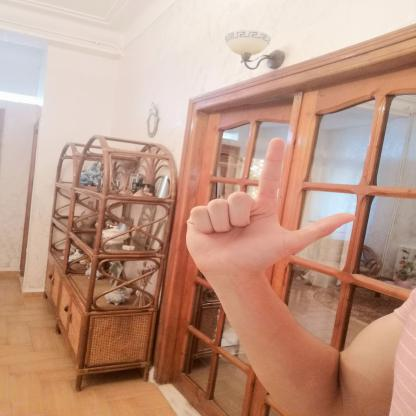LAAM: (168, 128, 367, 292)
